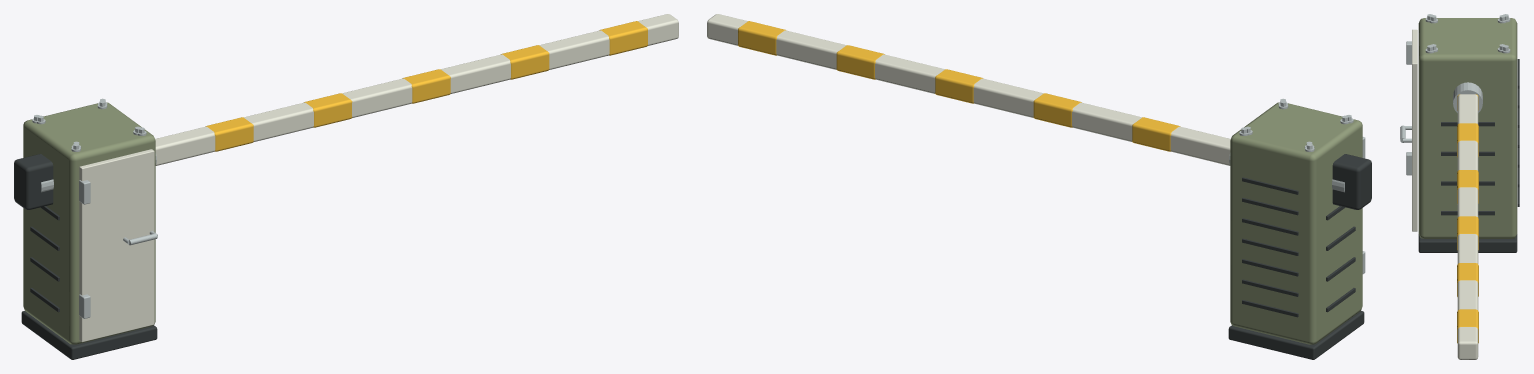
File: mountain-border-checkpoint-mountain-border-checkpoint--d10c9d1d__30316.glb
3 renders of one model, left to right at view 1: azimuth 30°, elevation 25°; view 2: azimuth 150°, elevation 25°; view 3: azimuth 270°, elevation 25°, orthographic. The views are drawn at different scales.
Parts seen in each view (by area): view 1: mountain-border-checkpoint-rising-arm-barrier; view 2: mountain-border-checkpoint-rising-arm-barrier; view 3: mountain-border-checkpoint-rising-arm-barrier.
Boxes of the visible parts, left/top/right/bottom form: mountain-border-checkpoint-rising-arm-barrier: left=14, top=14, right=678, bottom=359; mountain-border-checkpoint-rising-arm-barrier: left=707, top=14, right=1371, bottom=359; mountain-border-checkpoint-rising-arm-barrier: left=1400, top=14, right=1519, bottom=359.
Bounding box in the file's own units: 3.19 × 0.975 × 0.5205.
